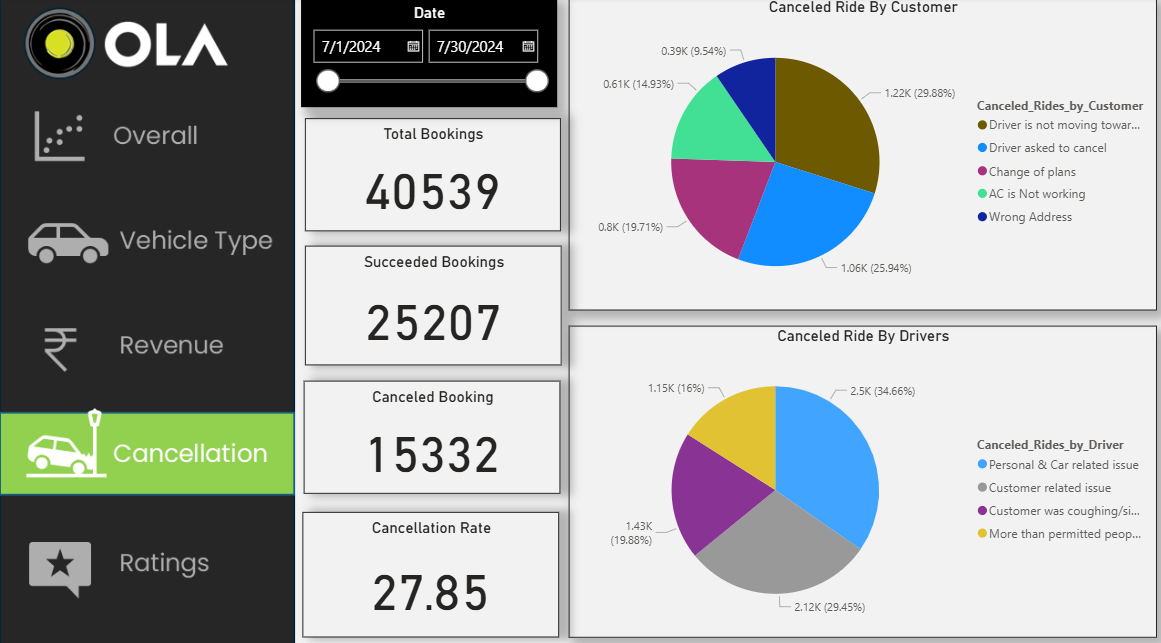

Layout of this report page (visuals, bound fields, positions):
{"tool":"powerbi","page":{"name":"Cancellation","canvas":[1280,720],"ordinal":3},"visuals":[{"type":"actionButton","box":[0,583.2,322.5,86.4],"z":0},{"type":"actionButton","box":[0,104.3,322.5,90.6],"z":1000},{"type":"actionButton","box":[0,227.8,322.5,90.6],"z":2000},{"type":"actionButton","box":[0,343.1,322.5,90.6],"z":3000},{"type":"pieChart","title":"Canceled Ride By Drivers","fields":{"Y":["CountNonNull(July.Canceled_Rides_by_Driver)"],"Category":["July.Canceled_Rides_by_Driver"]},"box":[624.3,360.4,645.4,342.3],"z":3001},{"type":"pieChart","title":"Canceled Ride By Customer","fields":{"Category":["July.Canceled_Rides_by_Customer"],"Y":["CountNonNull(July.Canceled_Rides_by_Customer)"]},"box":[624.3,0,645.4,343.8],"z":3002},{"type":"slicer","title":"Date","fields":{"Values":["July.Date"]},"box":[330.3,0,280.5,120.6],"z":3003},{"type":"cardVisual","title":"Total Bookings","fields":{"Data":["Count(July.Booking_ID)"]},"box":[334.8,132.7,280.5,123.7],"z":3004},{"type":"cardVisual","title":"Succeeded Bookings","fields":{"Data":["Count(July.Booking_ID)"]},"box":[334.8,273,282,131.2],"z":3005},{"type":"cardVisual","title":"Canceled Booking","fields":{"Data":["Count(July.Booking_ID)"]},"box":[333.3,420.7,282,123.7],"z":3006},{"type":"cardVisual","title":"Cancellation Rate ","fields":{"Data":["July.CanceledPercentage"]},"box":[331.8,565.5,282,137.2],"z":3007}]}

Visuals, with their boxes on the page's 1280x720 design canvas (x1, y1, x2, y2). These are canvas units, not pixel positions in the 1161x643 screenshot, which may show the page scaled, cropped or inside an application window:
actionButton: box=[0, 583, 322, 670]
actionButton: box=[0, 104, 322, 195]
actionButton: box=[0, 228, 322, 318]
actionButton: box=[0, 343, 322, 434]
"Canceled Ride By Drivers" pieChart: box=[624, 360, 1270, 703]
"Canceled Ride By Customer" pieChart: box=[624, 0, 1270, 344]
"Date" slicer: box=[330, 0, 611, 121]
"Total Bookings" cardVisual: box=[335, 133, 615, 256]
"Succeeded Bookings" cardVisual: box=[335, 273, 617, 404]
"Canceled Booking" cardVisual: box=[333, 421, 615, 544]
"Cancellation Rate " cardVisual: box=[332, 566, 614, 703]
